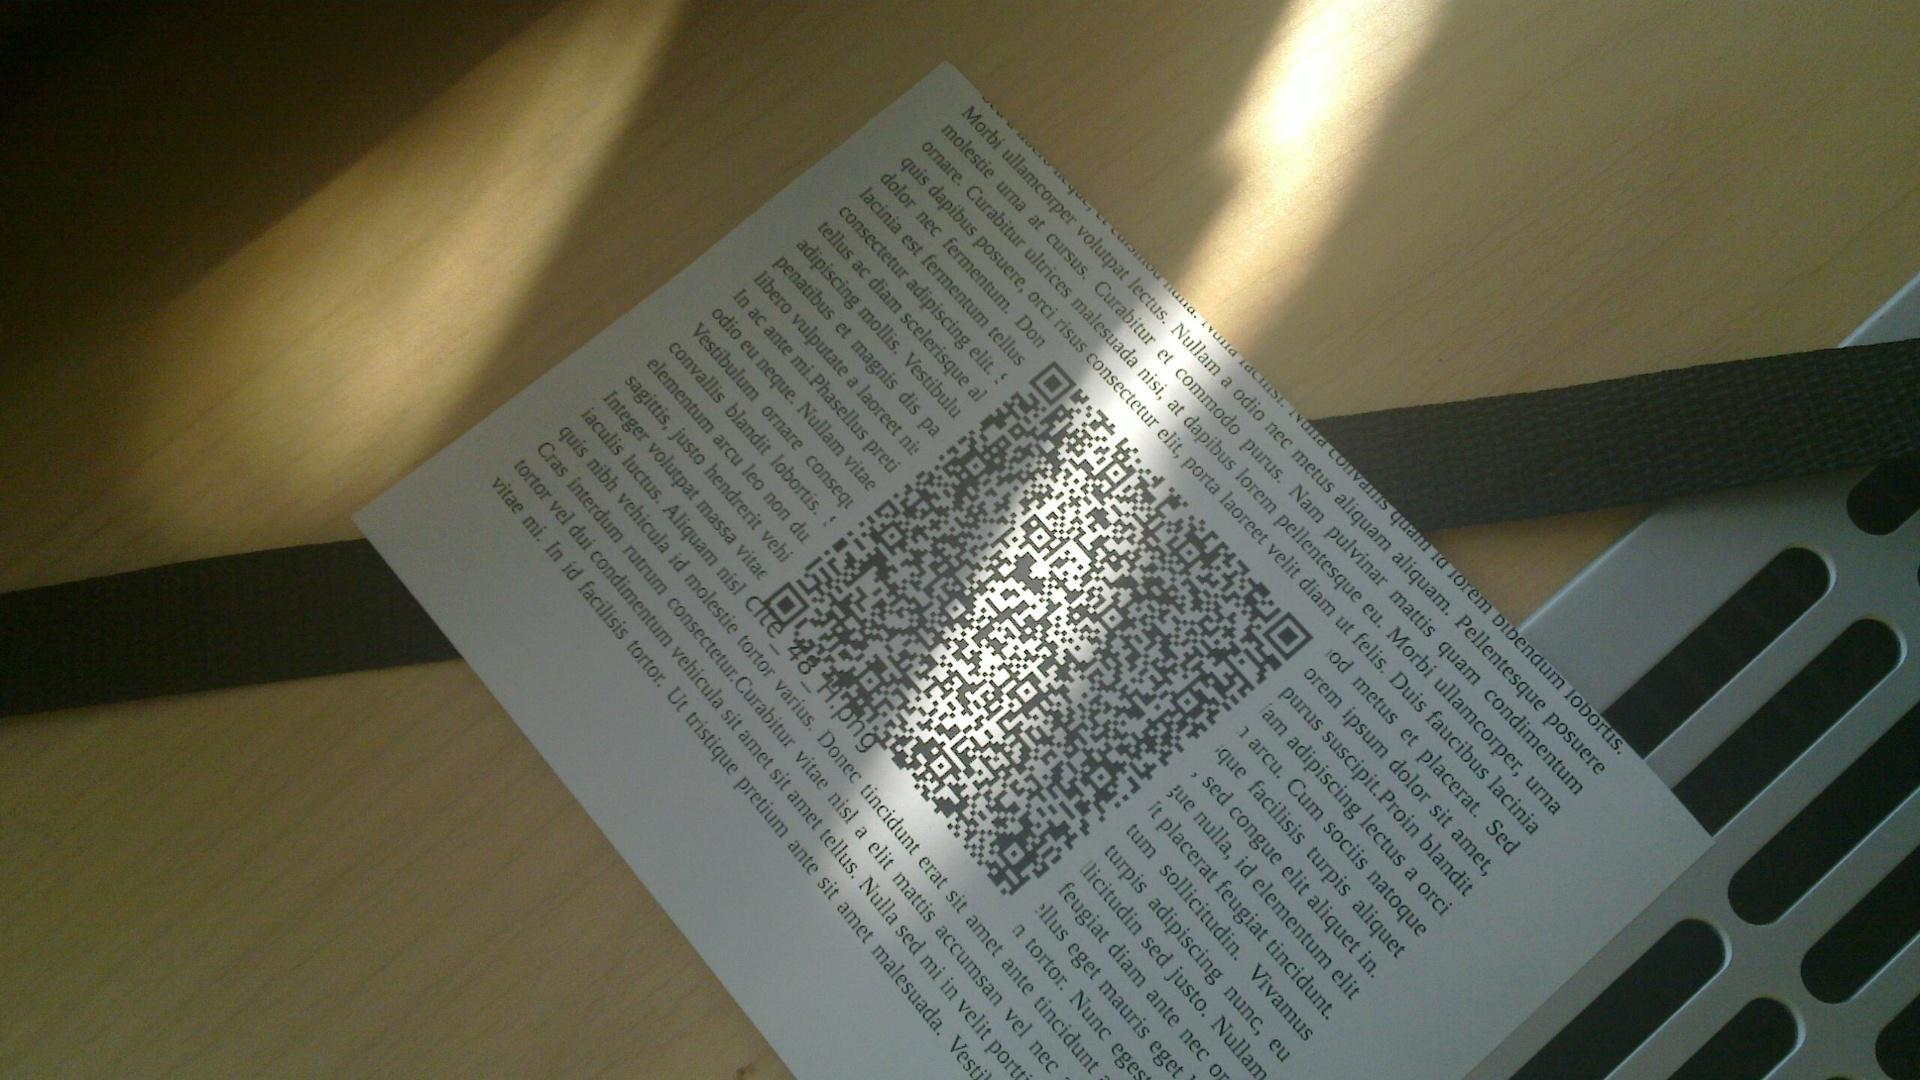Finder pattern: (1263, 607, 1315, 665), (1029, 359, 1077, 404), (764, 582, 808, 626)
